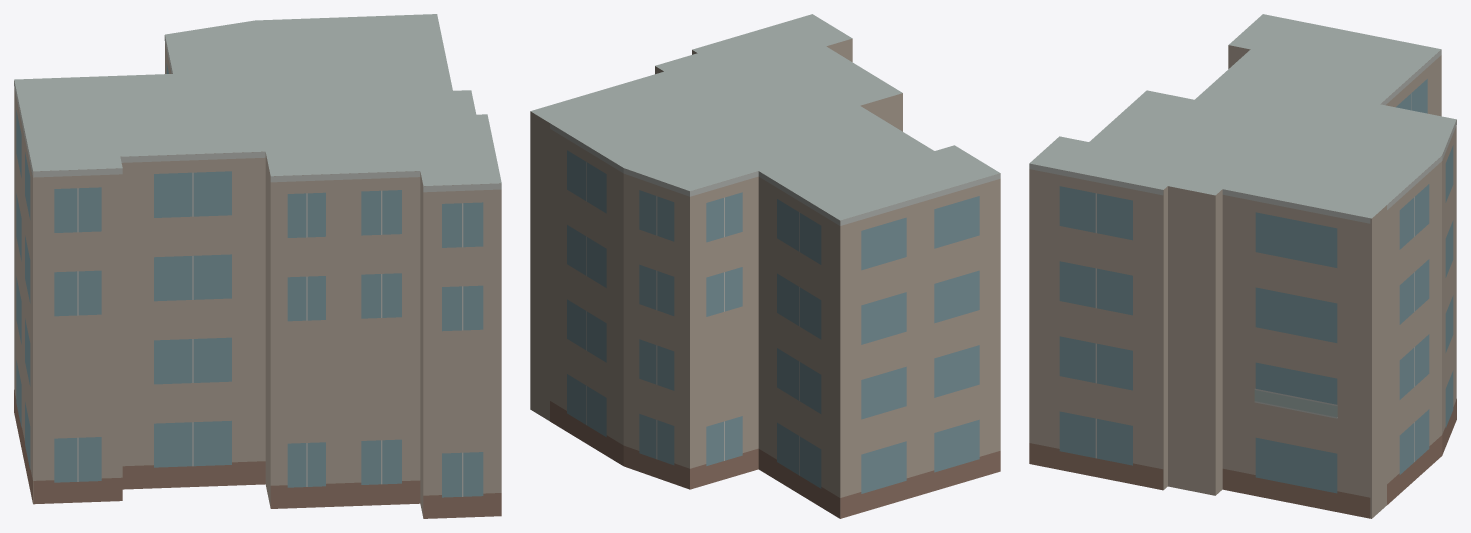
The model's file is survey-upis-32754447.glb.
The picture shows the model from 3 angles, left to right: view 1: azimuth 30°, elevation 25°; view 2: azimuth 150°, elevation 25°; view 3: azimuth 270°, elevation 25°; orthographic projection. The views are drawn at different scales.
Visible parts, largest first — view 1: survey-upis-32754447.tmp; view 2: survey-upis-32754447.tmp; view 3: survey-upis-32754447.tmp.
Part boxes in pixels (x1,y1,x2,y2): survey-upis-32754447.tmp: (14, 14, 501, 518); survey-upis-32754447.tmp: (530, 14, 1000, 518); survey-upis-32754447.tmp: (1029, 14, 1456, 518).
Bounding box in the file's own units: 19.28 × 13.2 × 17.03.
